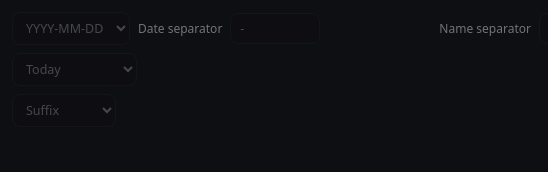
it: DateModifier › shows the insert position only in insert mode
Select "At position" in the 3rd dropdown at x=64, y=110, box [12,94,116,127]
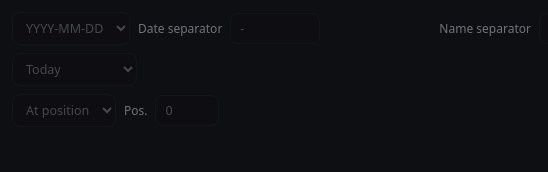
Expected: the number of number fields is 1, [156,95,220,126]
